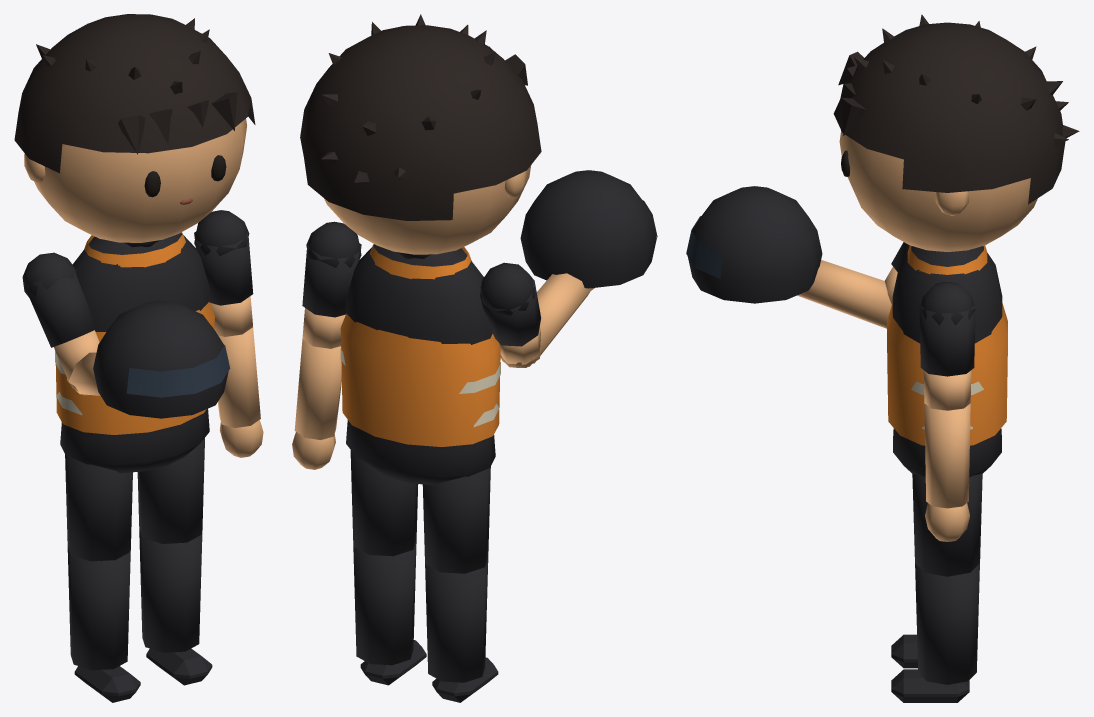
Rendered from era3_moto_taxi.glb.
The picture shows the model from 3 angles, left to right: view 1: azimuth 30°, elevation 25°; view 2: azimuth 150°, elevation 25°; view 3: azimuth 270°, elevation 25°; orthographic projection.
Visible parts, largest first — view 1: head, body, prop_moto_helmet, shin_L, shin_R, leg_R, arm_R, arm_L, leg_L, forearm_L, forearm_R; view 2: head, body, prop_moto_helmet, shin_L, shin_R, leg_R, arm_L, leg_L, forearm_L, arm_R, forearm_R; view 3: head, body, prop_moto_helmet, shin_L, arm_L, forearm_L, leg_L, forearm_R, shin_R.
Part boxes in pixels (left/top/right/bottom): head: left=14, top=14, right=255, bottom=242; body: left=55, top=232, right=214, bottom=473; prop_moto_helmet: left=93, top=300, right=230, bottom=418; shin_L: left=139, top=528, right=212, bottom=685; shin_R: left=67, top=545, right=140, bottom=702; leg_R: left=65, top=454, right=132, bottom=561; arm_R: left=22, top=252, right=99, bottom=395; arm_L: left=194, top=210, right=253, bottom=336; leg_L: left=137, top=438, right=204, bottom=543; forearm_L: left=217, top=327, right=263, bottom=457; forearm_R: left=67, top=352, right=100, bottom=395; head: left=300, top=14, right=541, bottom=254; body: left=340, top=244, right=500, bottom=485; prop_moto_helmet: left=520, top=170, right=657, bottom=288; shin_L: left=353, top=540, right=426, bottom=685; shin_R: left=425, top=557, right=498, bottom=702; leg_R: left=422, top=466, right=490, bottom=573; arm_L: left=302, top=221, right=361, bottom=348; leg_L: left=350, top=450, right=418, bottom=556; forearm_L: left=292, top=339, right=341, bottom=469; arm_R: left=480, top=262, right=541, bottom=367; forearm_R: left=500, top=273, right=594, bottom=367; head: left=833, top=14, right=1079, bottom=251; body: left=887, top=245, right=1007, bottom=477; prop_moto_helmet: left=686, top=186, right=822, bottom=303; shin_L: left=891, top=563, right=979, bottom=702; arm_L: left=919, top=282, right=975, bottom=410; forearm_L: left=924, top=403, right=970, bottom=541; leg_L: left=912, top=473, right=982, bottom=576; forearm_R: left=797, top=260, right=891, bottom=328; shin_R: left=891, top=634, right=917, bottom=668.
Size of the model in its own units: 0.6077 by 1.48 by 0.8143.
